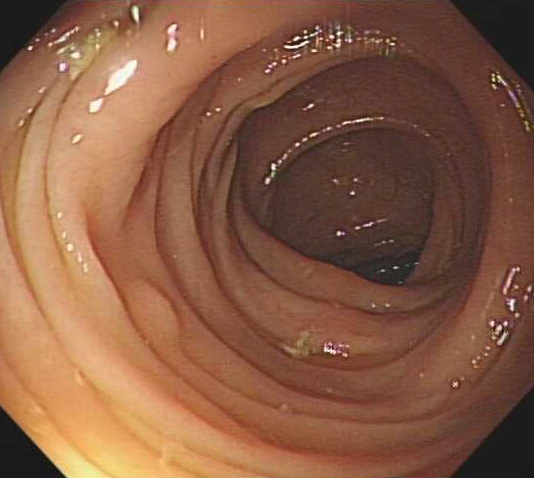others: (126, 276, 181, 349)
